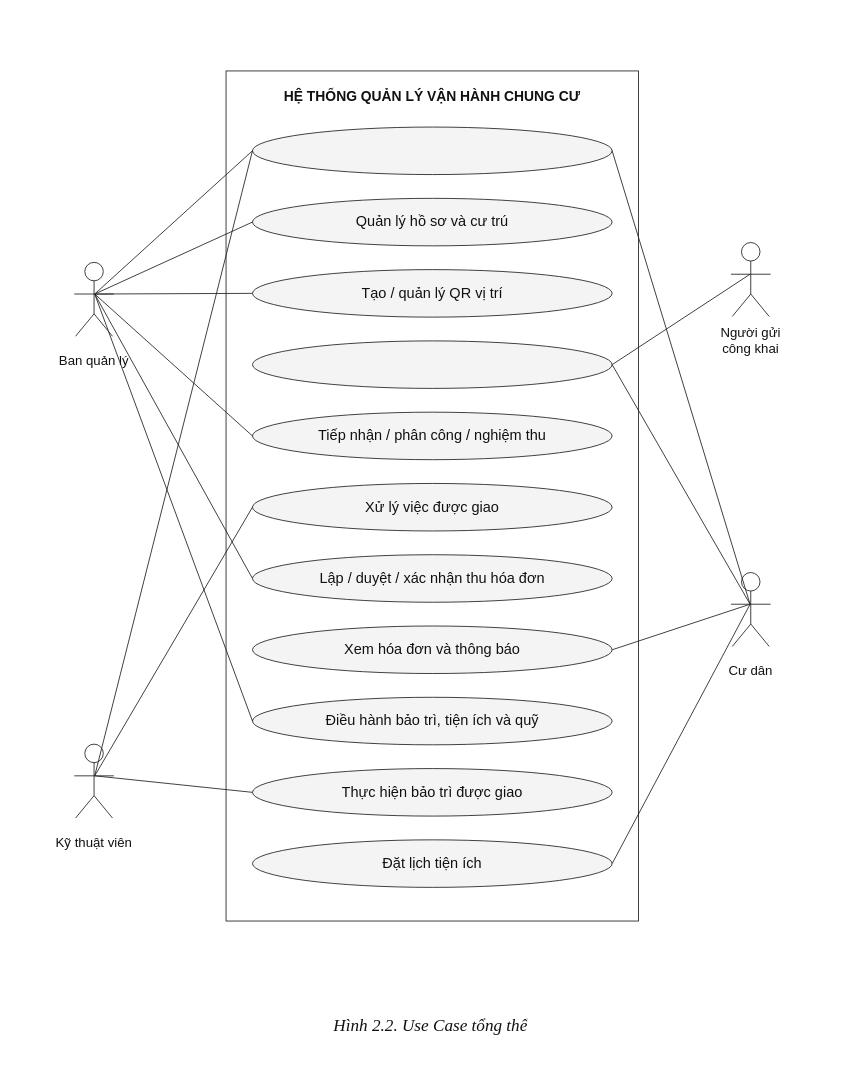
This 861x1071 diagram has some shape labels left out. The shapes that lost their labels are listed below. From the top down, each one's box as (x1, y1, x2, y2) in pixels, then its label:
(252, 126, 612, 175): Đăng nhập / quản lý phiên
(252, 340, 612, 389): Gửi / tra cứu phản ánh
